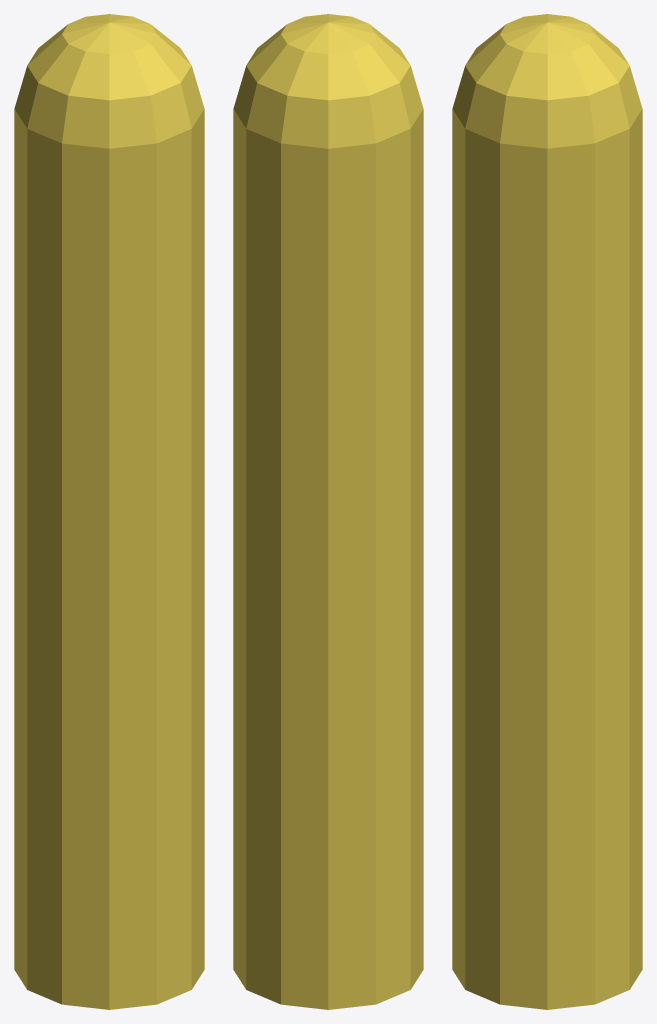
File: SM_Bollard_A.fbx
3 renders of one model, left to right at view 1: azimuth 30°, elevation 25°; view 2: azimuth 150°, elevation 25°; view 3: azimuth 270°, elevation 25°, orthographic.
Parts seen in each view (by area): view 1: SM_Bollard_A_LOD0; view 2: SM_Bollard_A_LOD0; view 3: SM_Bollard_A_LOD0.
Part boxes in pixels (left/top/right/bottom): SM_Bollard_A_LOD0: left=14, top=14, right=204, bottom=1009; SM_Bollard_A_LOD0: left=233, top=14, right=423, bottom=1009; SM_Bollard_A_LOD0: left=452, top=14, right=642, bottom=1009.
Size of what is drawn, in the model's own units: 0.2 by 1.1 by 0.2.
